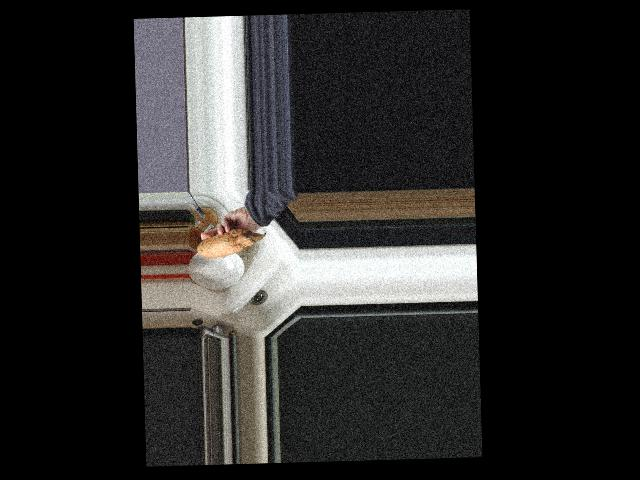sweet_potato: (196, 228, 267, 260)
